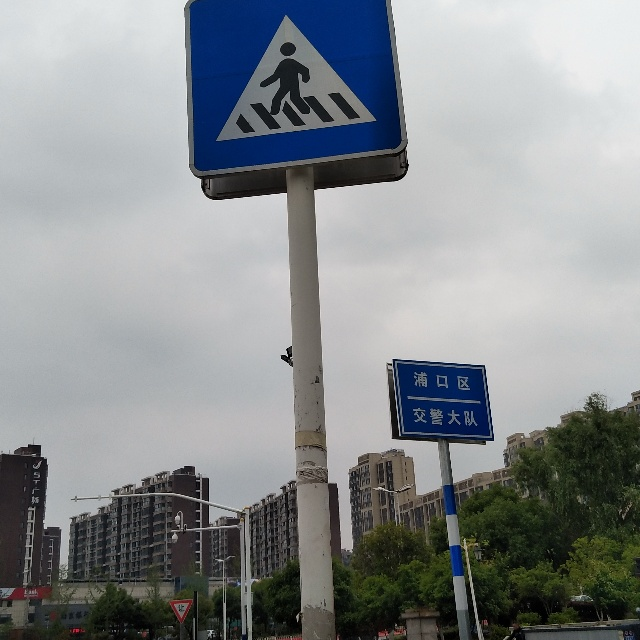crosswalk: (176, 1, 414, 181)
